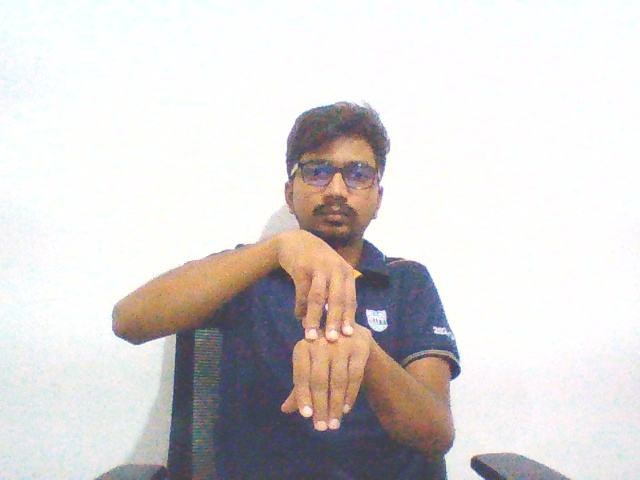papaya: (268, 221, 376, 450)
